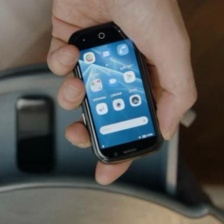phone: (57, 17, 170, 166), (10, 90, 60, 178)
